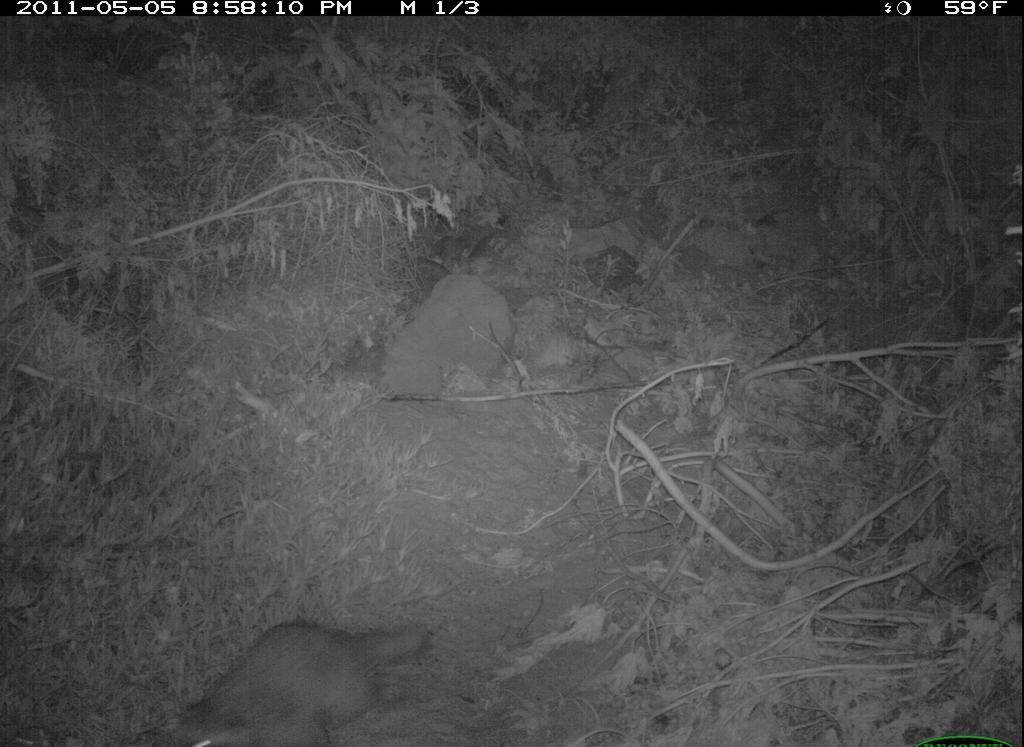raccoon: (132, 561, 473, 747)
